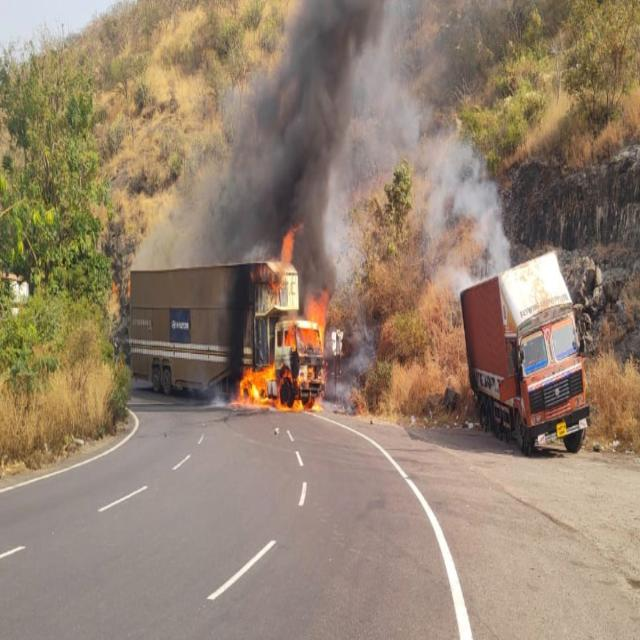accident: (130, 261, 325, 407), (461, 252, 589, 453)
